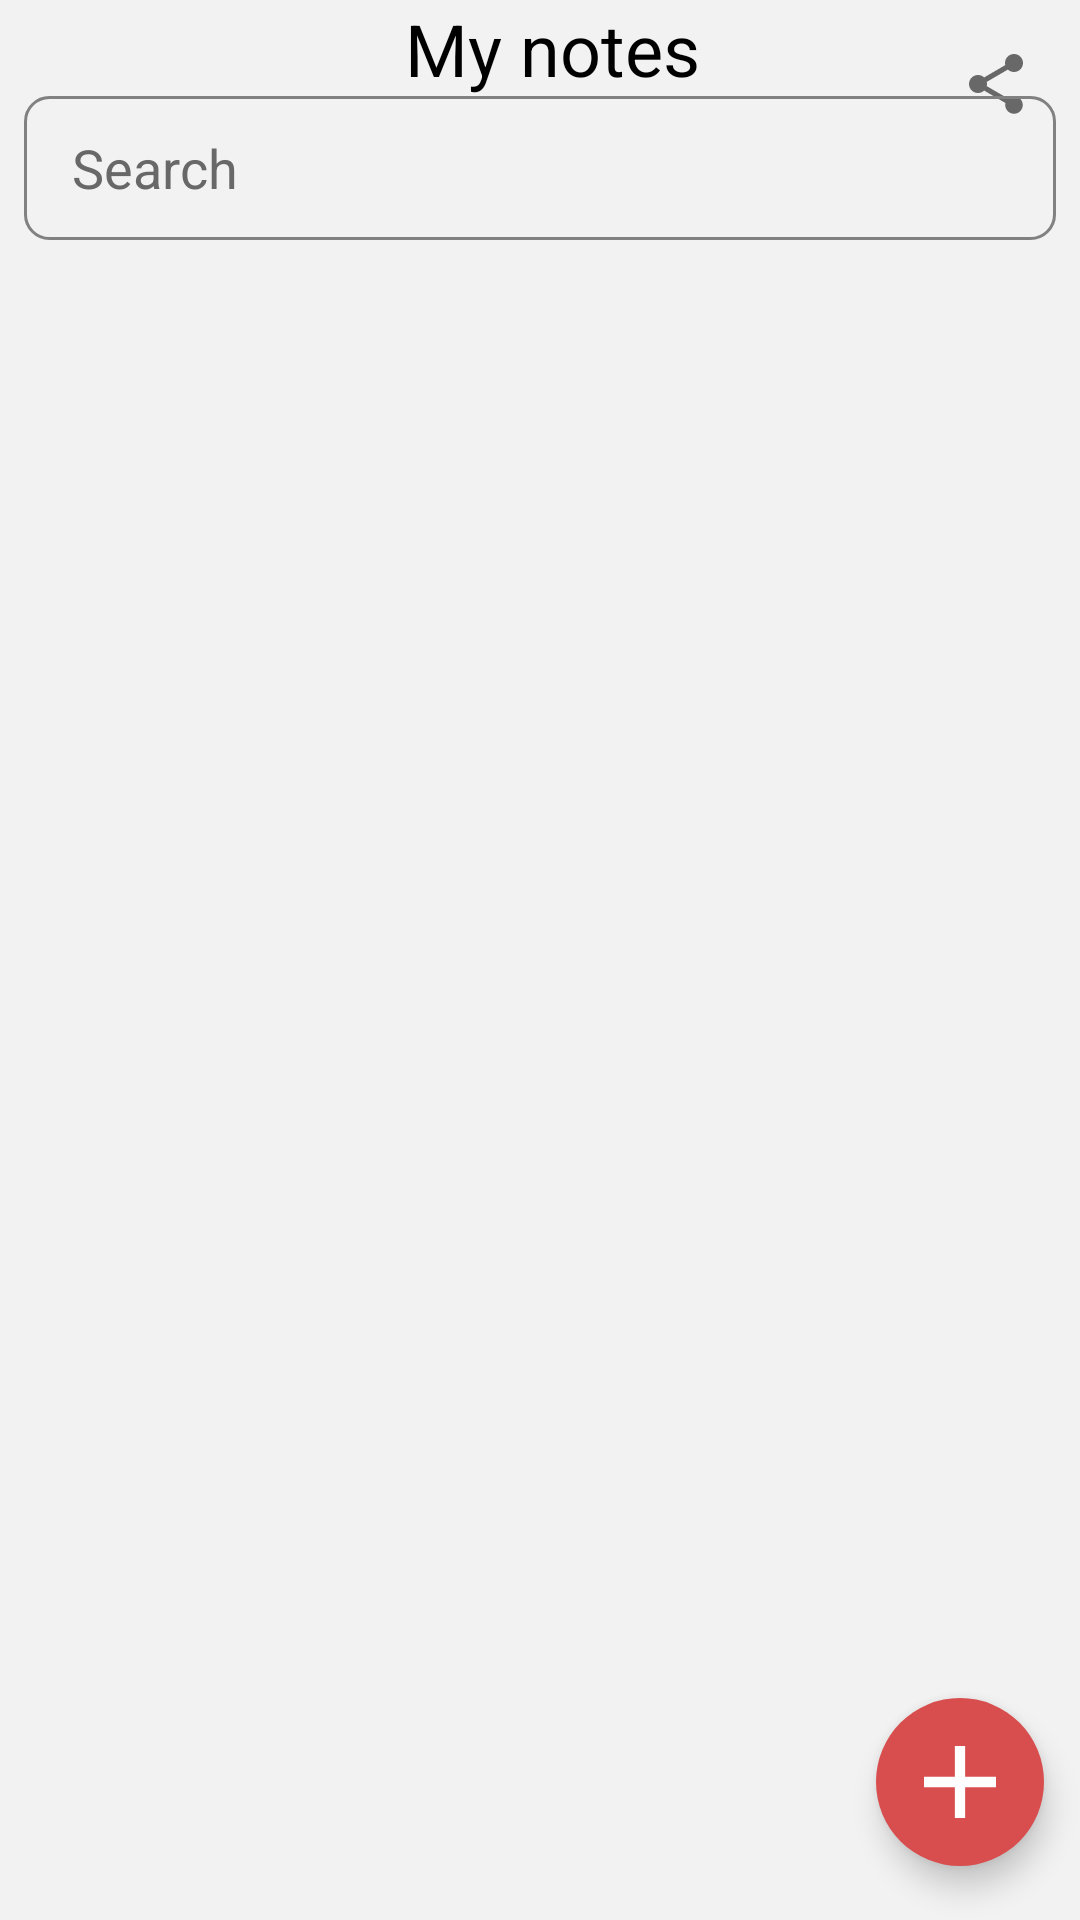

Icons on this 1080px×1920px Android screen, each with its box as (left=x1, top=y1, right=x2, bottom=y2):
plus: (left=876, top=1698, right=1046, bottom=1883)
